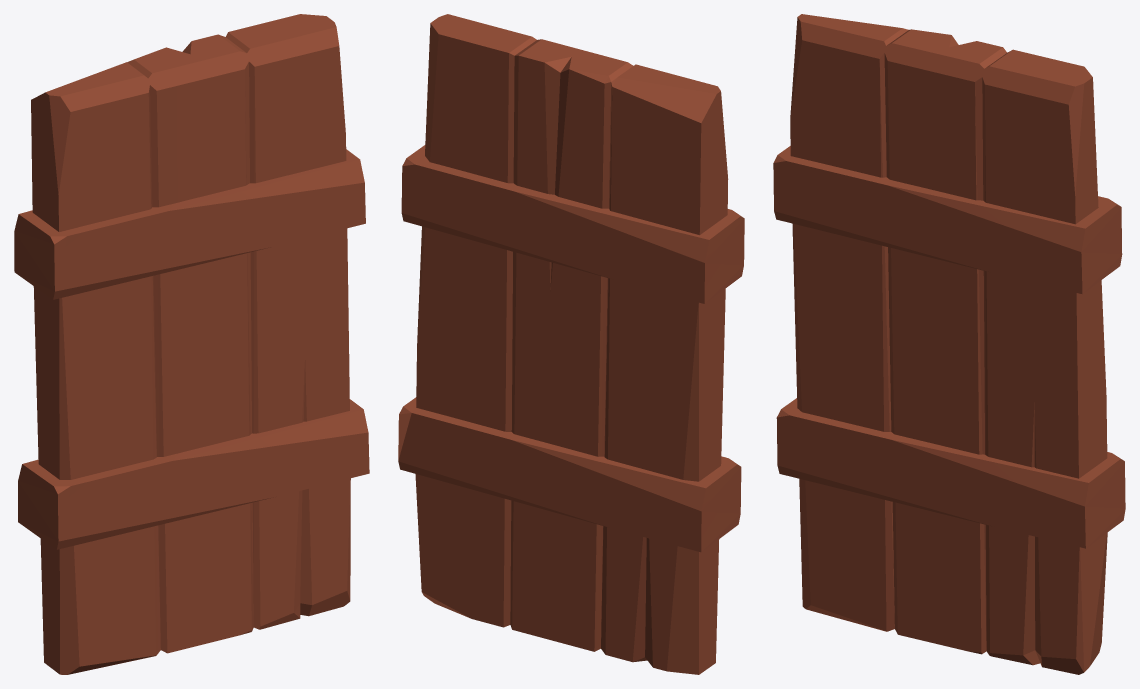
File: Door.fbx
3 renders of one model, left to right at view 1: azimuth 30°, elevation 25°; view 2: azimuth 150°, elevation 25°; view 3: azimuth 330°, elevation 25°, orthographic.
Parts seen in each view (by area): view 1: men; view 2: men; view 3: men.
Part boxes in pixels (bbox=[...]): men: bbox=[14, 14, 369, 674]; men: bbox=[398, 14, 744, 674]; men: bbox=[773, 14, 1125, 674].
Bounding box in the file's own units: 29.13 × 52.02 × 6.96.
